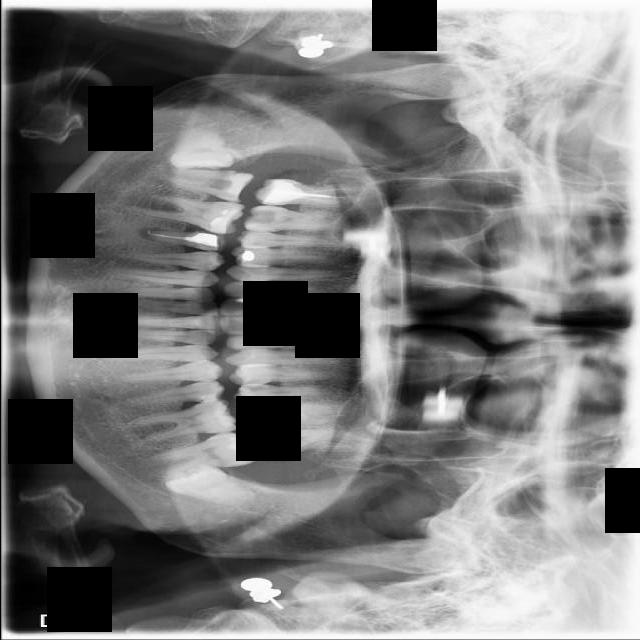52: (195, 195, 245, 238), (211, 161, 255, 209), (253, 175, 310, 210), (250, 426, 302, 456), (182, 378, 226, 405), (230, 245, 277, 269), (218, 297, 275, 316), (187, 230, 227, 252)
73: (300, 183, 366, 209), (144, 222, 191, 247), (261, 295, 317, 315), (48, 600, 64, 613)
BioHorizons Implant: (251, 427, 372, 456)
Biomet 3i Implant: (163, 457, 256, 508)
Blue Sky Bio Implant: (145, 428, 256, 478)
Caries: (254, 177, 367, 210)
Implant: (164, 166, 254, 204)
Keystone Dental Implant: (168, 127, 234, 170)
